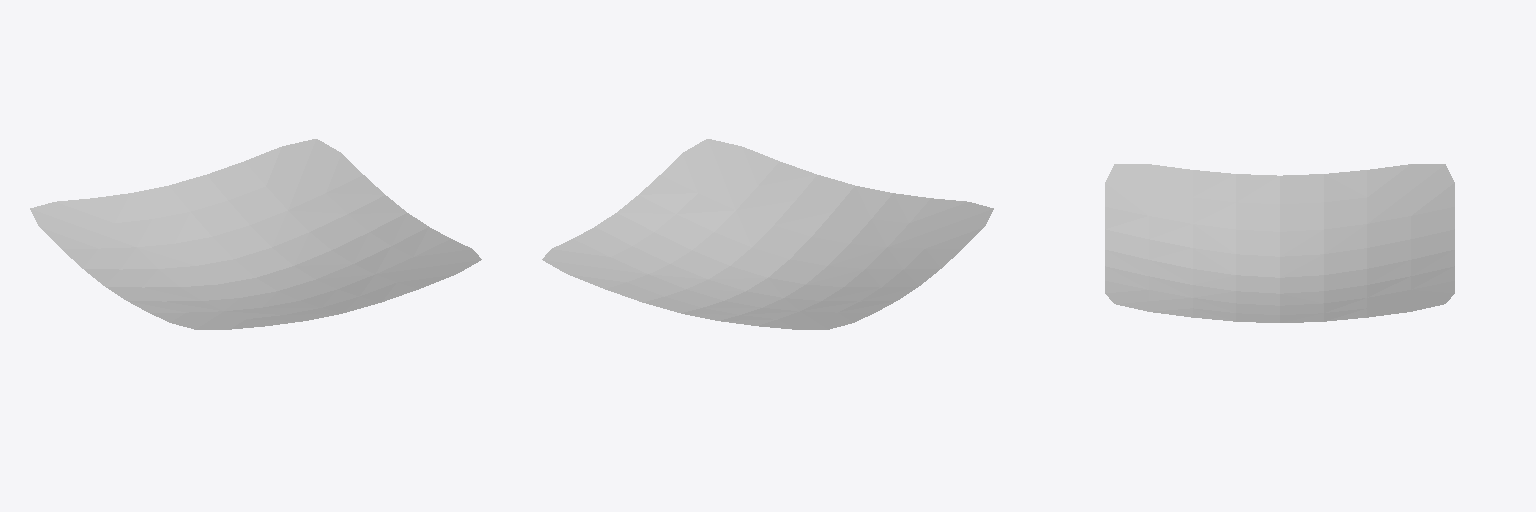
Rendered from Dona.obj.
3 renders of one model, left to right at view 1: azimuth 30°, elevation 25°; view 2: azimuth 150°, elevation 25°; view 3: azimuth 270°, elevation 25°, orthographic.
Parts seen in each view (by area): view 1: Plane; view 2: Plane; view 3: Plane.
Boxes of the visible parts, x1,y1,x2,y2 form: Plane: [30, 139, 481, 329]; Plane: [542, 139, 993, 329]; Plane: [1105, 164, 1454, 322].
Size of the model in its own units: 2 by 0.2753 by 2.